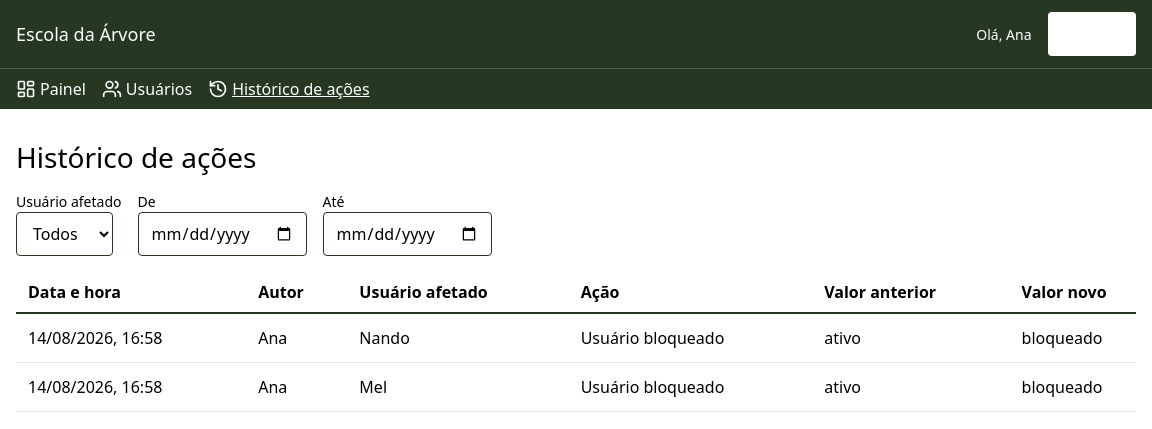
Test case: US6 — histórico de ações administrativas › filtra por usuário afetado
Expected: the text "Mel" is shown, [347,362,569,411]
Expected: the text "Nando" is shown, [347,313,569,362]
Select "Mel" in the dropdown labelled "Usuário afetado" at (64, 234), box [16,212,113,256]
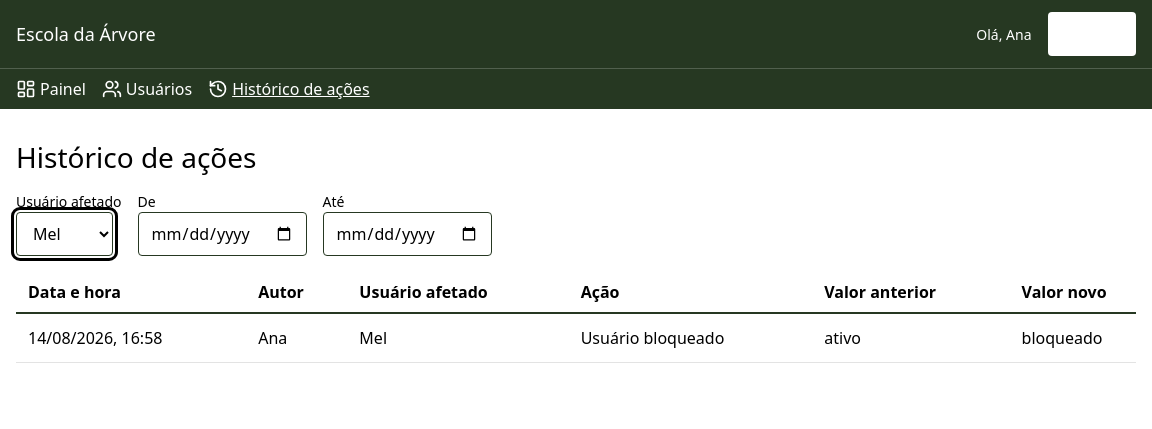
Expected: the text "Mel" is shown, [347,313,569,362]
Now the text "Nando" is gone
